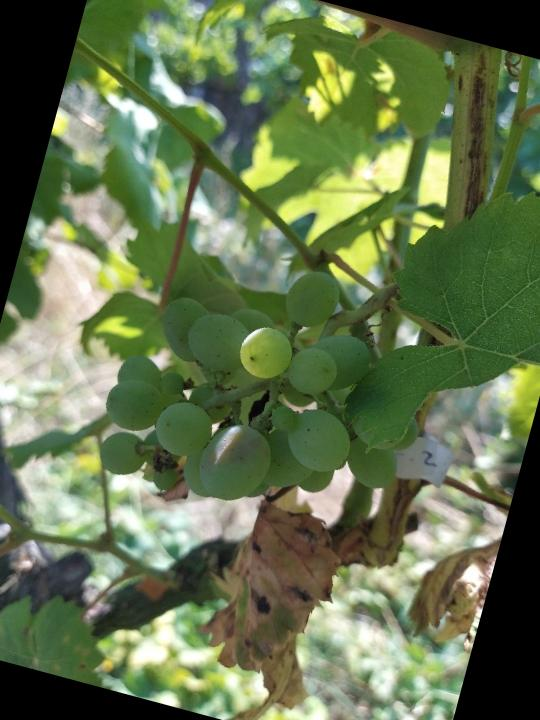grape: (84, 223, 453, 554)
